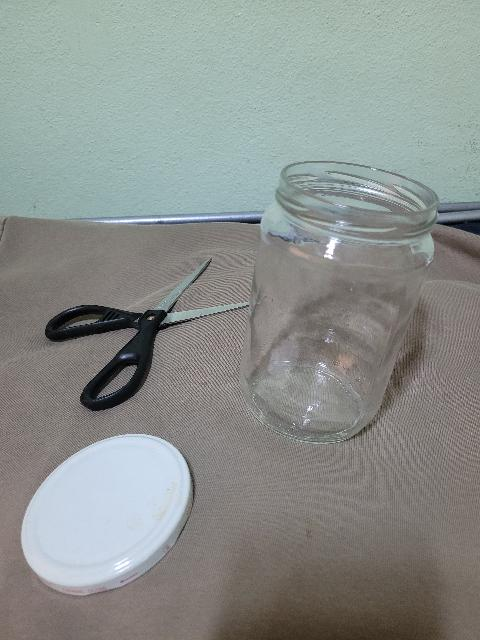Cam: (244, 156, 441, 448)
Metal: (17, 433, 198, 597), (157, 256, 251, 325)
Plastik: (40, 298, 160, 409)
